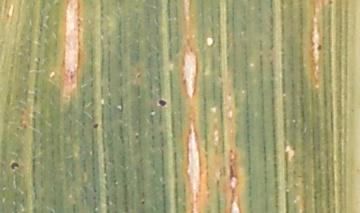tarspot: (10, 161, 20, 170), (158, 98, 167, 107), (317, 43, 323, 52), (93, 122, 99, 129), (140, 199, 146, 205), (328, 1, 334, 6)
